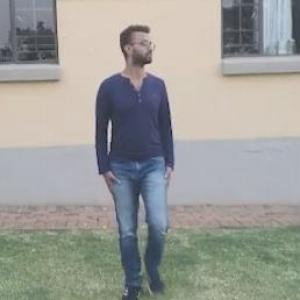follow: (91, 12, 186, 299)
